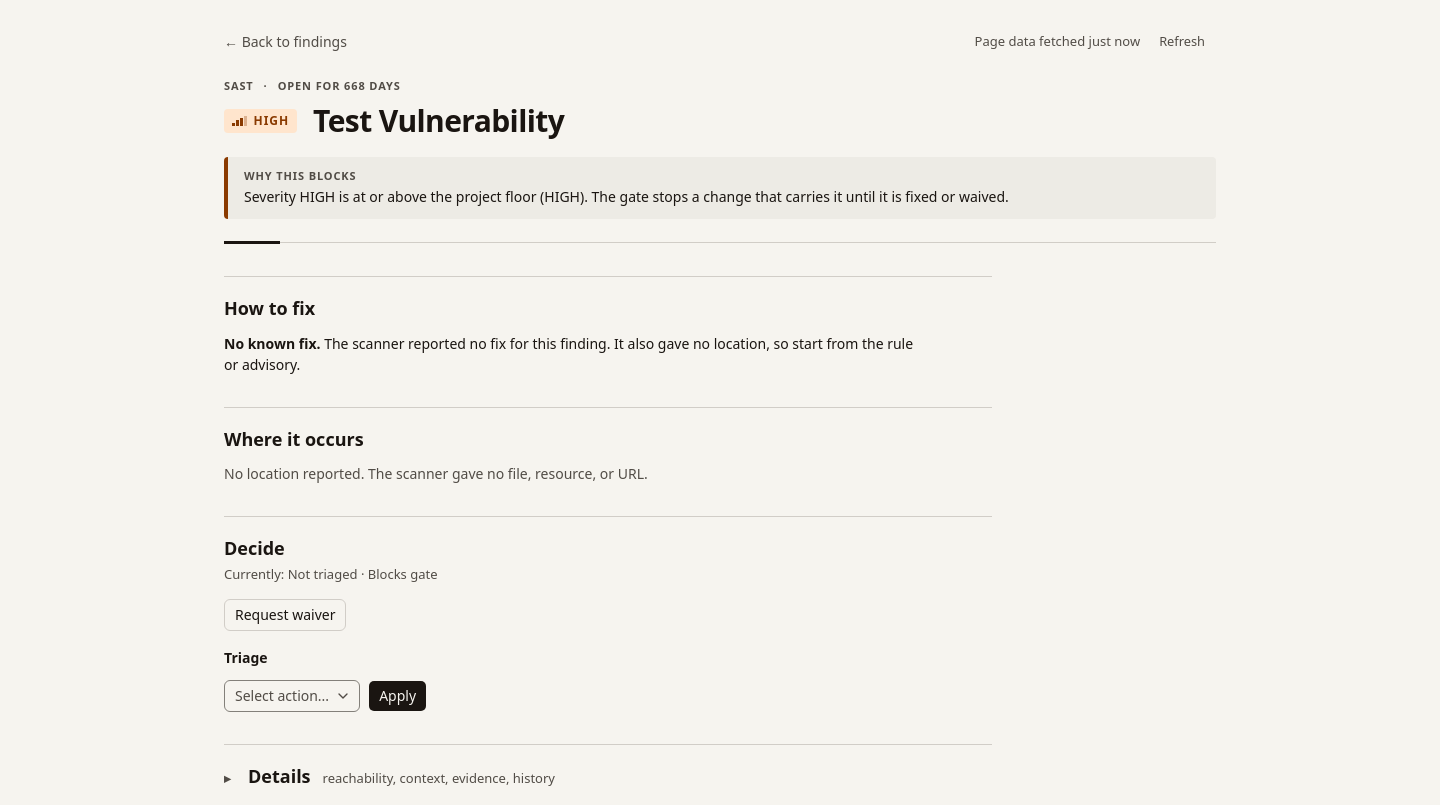
FindingDetail fix-first order › puts the secondary sections behind the Details button
expect the heading "Test Vulnerability" is shown: met, box x1=313 y1=104 x2=564 y2=137
Click the button "▸ Details reachability, context, evidence, history" at (279, 776), box x1=224 y1=761 x2=992 y2=793
(page scrolled)
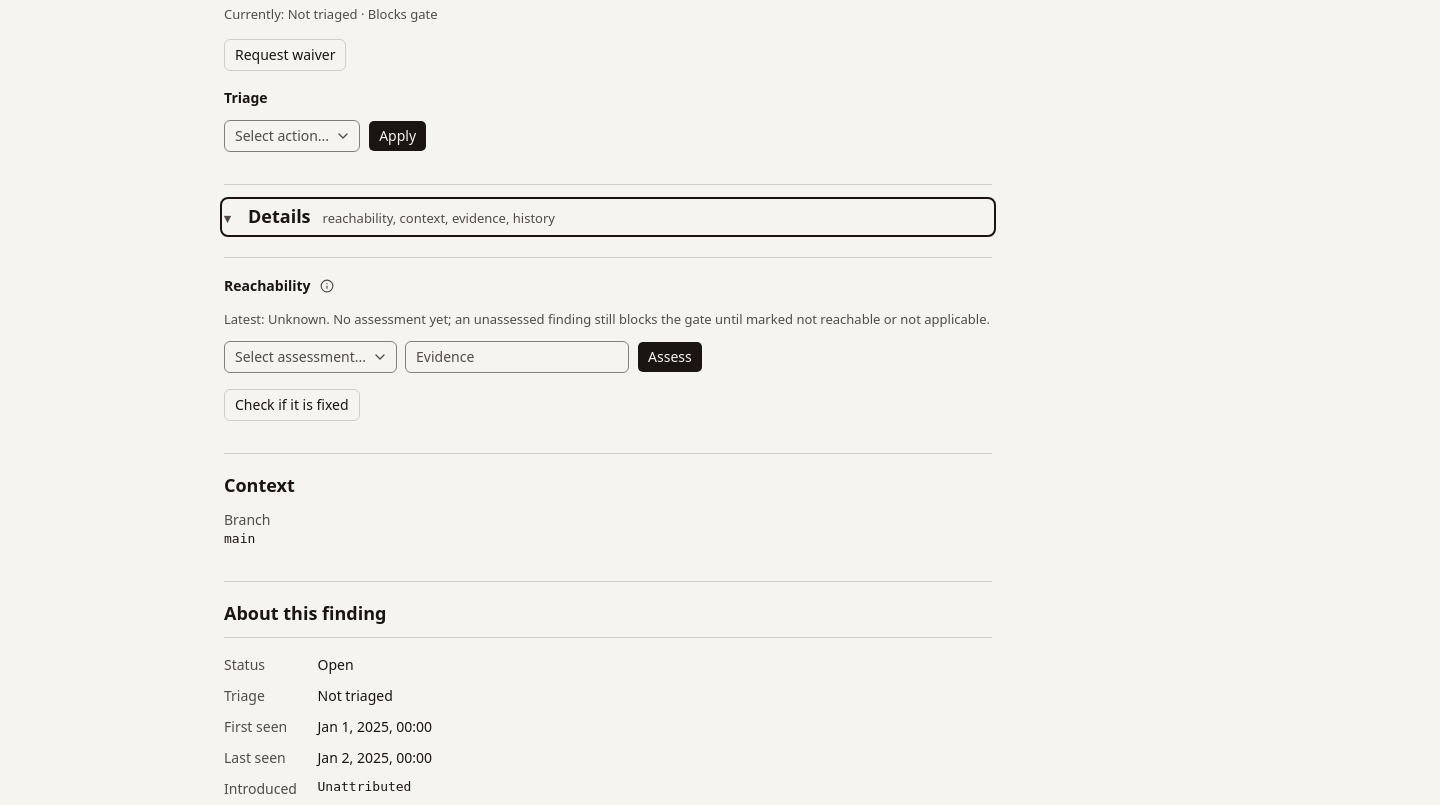
expect the button "▾ Details reachability, context, evidence, history" is expanded: met, box x1=224 y1=201 x2=992 y2=233
expect the heading "Reachability" is shown: met, box x1=224 y1=275 x2=310 y2=296
expect the button "Check if it is fixed" is shown: met, box x1=224 y1=389 x2=360 y2=421
